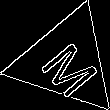M_NE: (31, 28, 101, 95)
